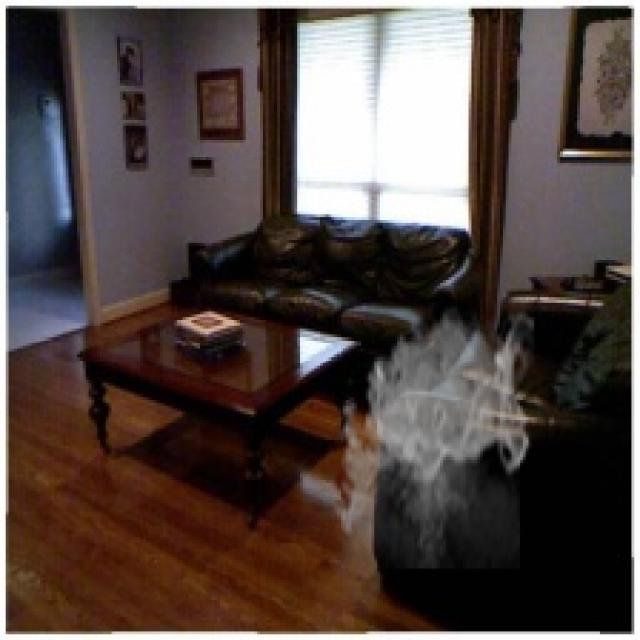smoke: (329, 303, 534, 568)
